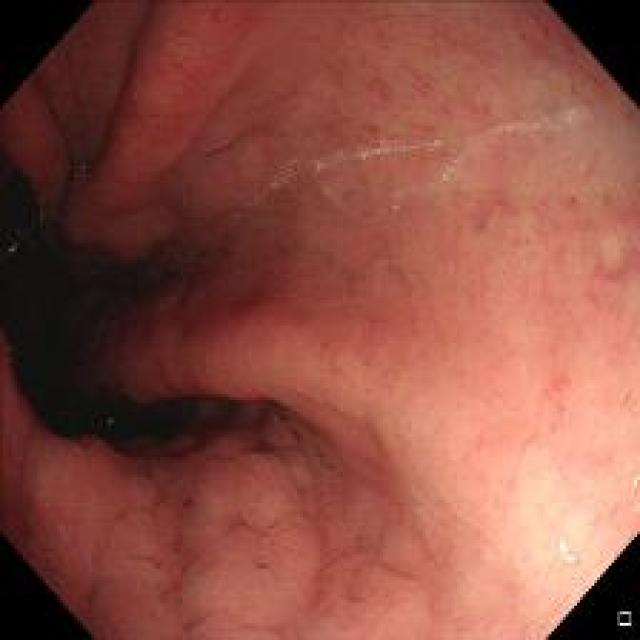color misalignment: (478, 112, 575, 138), (270, 151, 342, 185), (346, 132, 404, 166), (421, 135, 466, 178), (5, 210, 36, 262), (99, 411, 126, 431)
contrast: (0, 175, 259, 468)
specularity: (550, 532, 580, 569)
